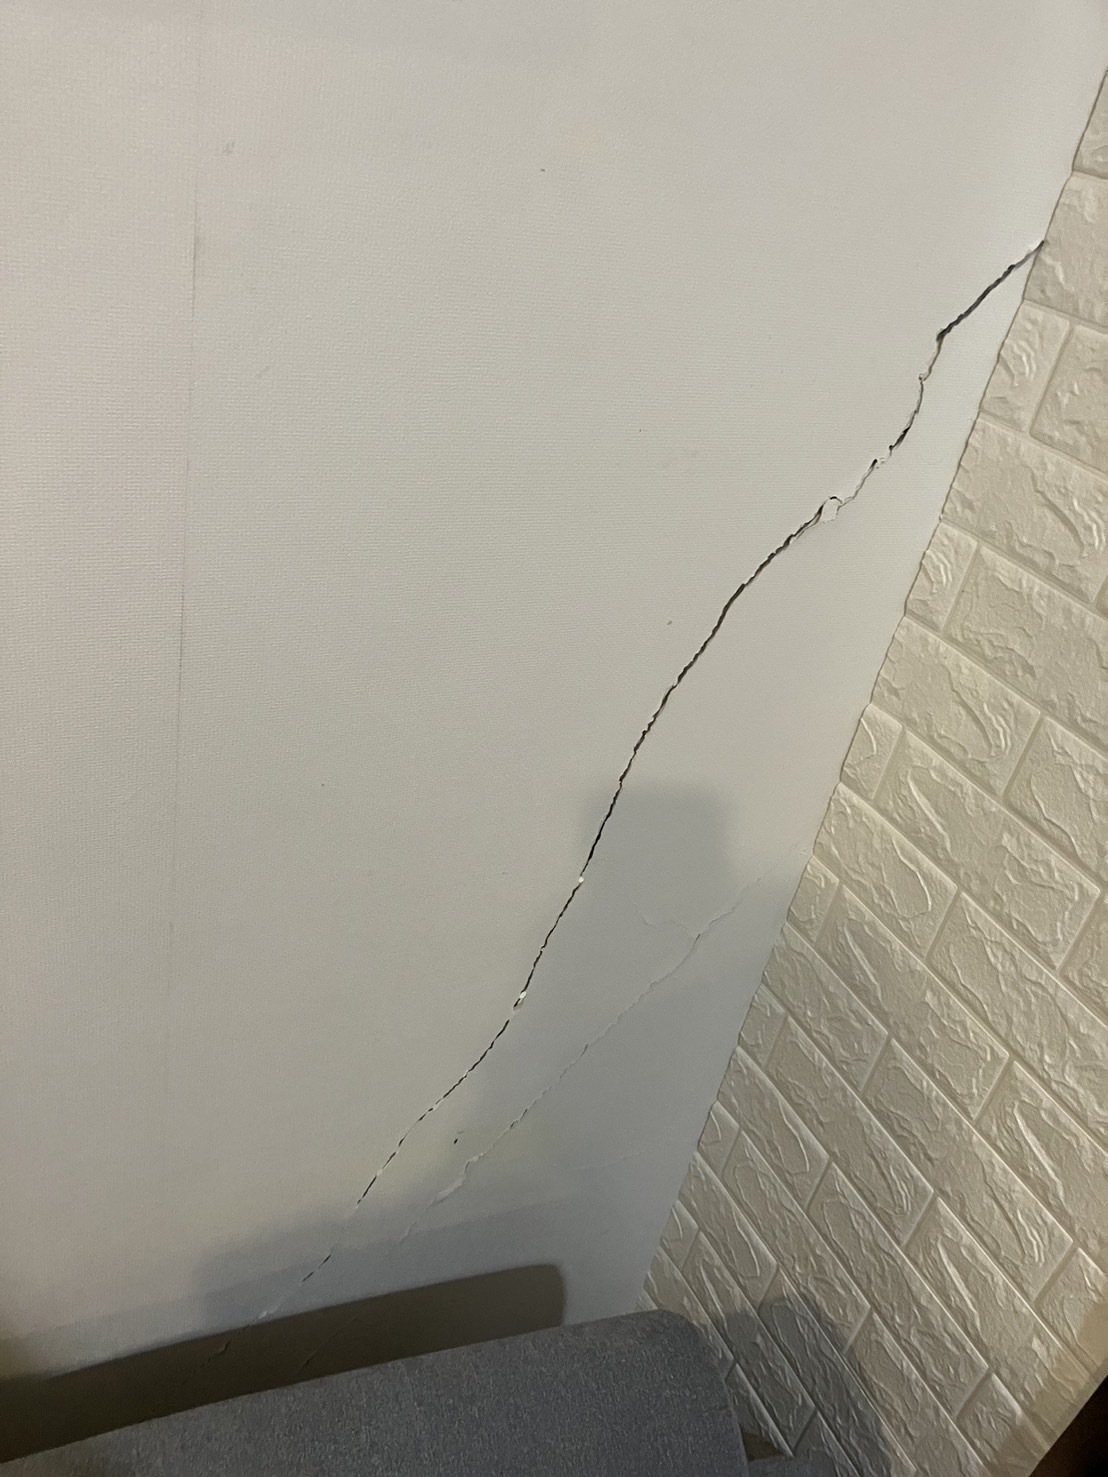Low: (242, 197, 1051, 1315)
